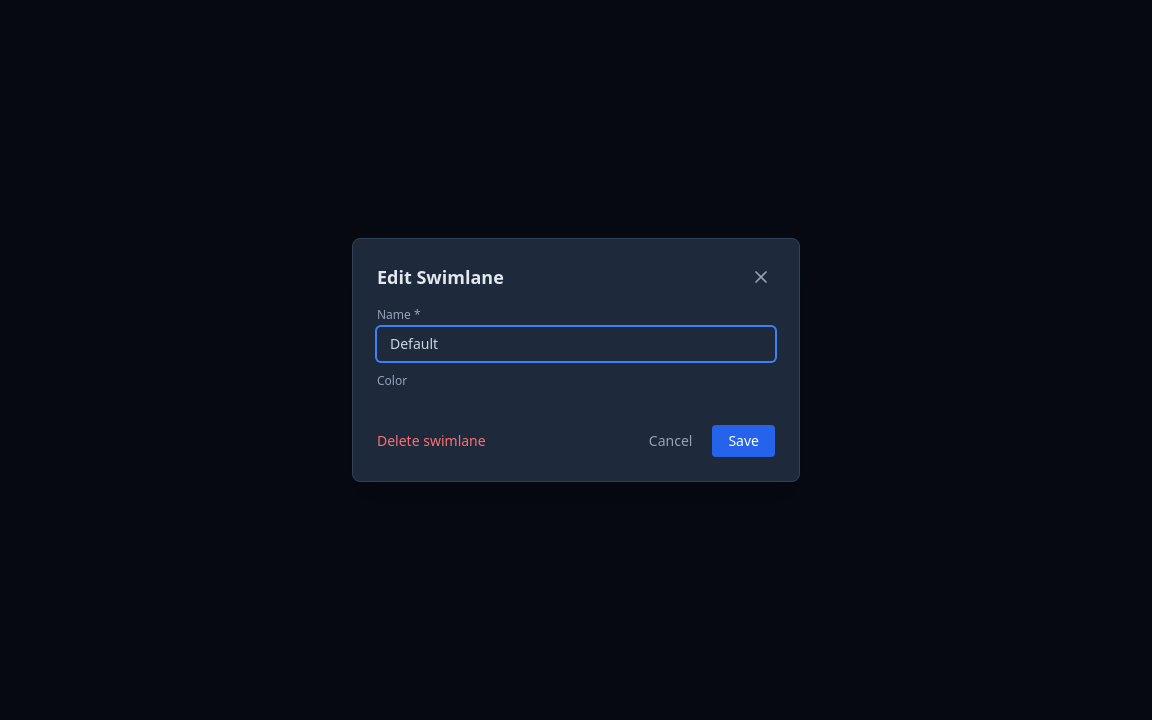
EditSwimlaneModal › shows saveError and does not close when saving via Enter fails
Replace the text in the field showing "Default" with "Renamed": (576, 344) [377,327,775,361]
Then press Enter
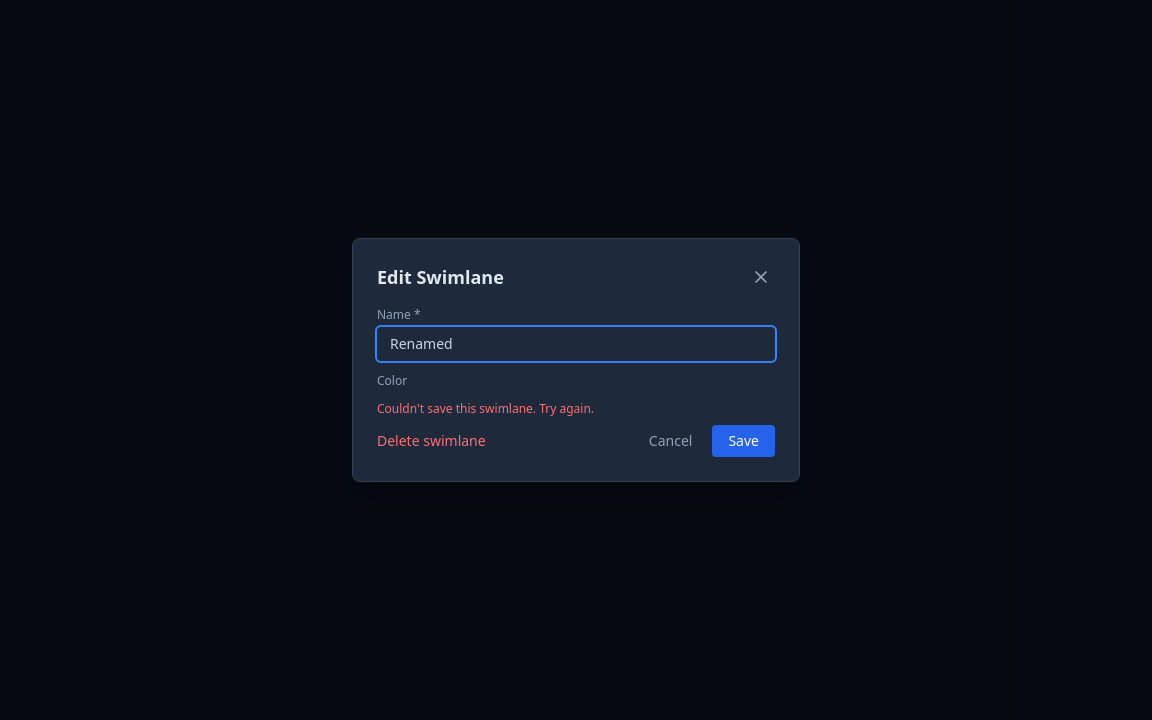
Expected: the text "Couldn't save this swimlane. Try again." is shown, [377,400,594,417]
